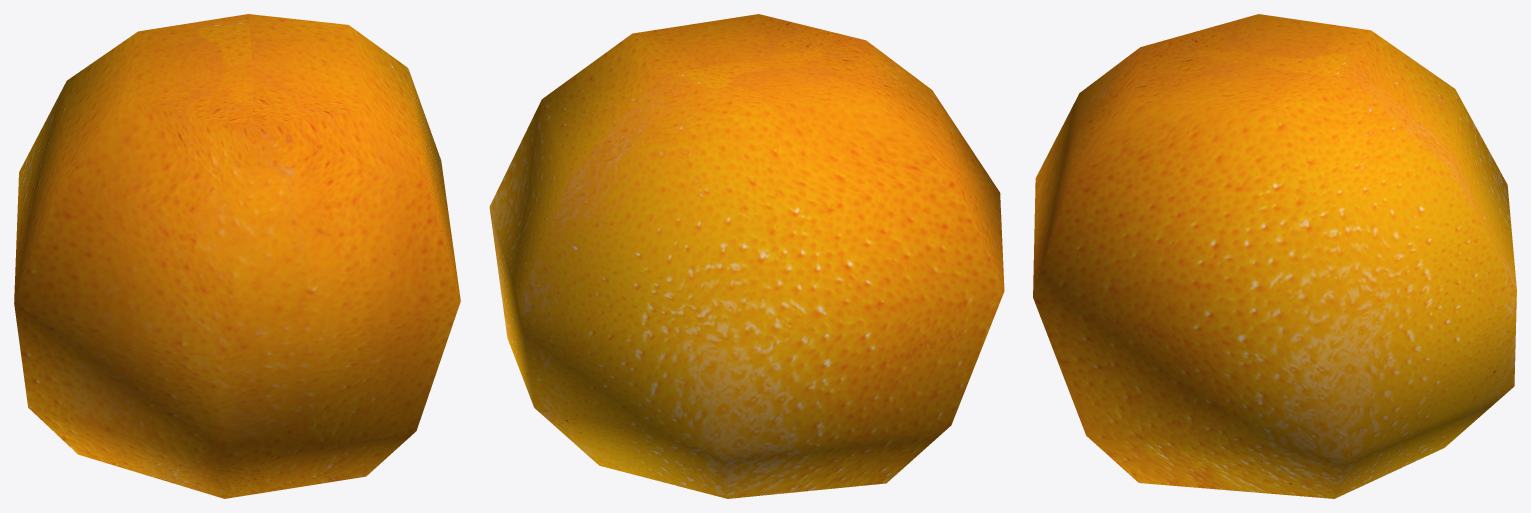
Rendered from orange_low_poly.FBX.
The picture shows the model from 3 angles, left to right: view 1: azimuth 30°, elevation 25°; view 2: azimuth 150°, elevation 25°; view 3: azimuth 270°, elevation 25°; orthographic projection.
Parts seen in each view (by area): view 1: Orange02; view 2: Orange02; view 3: Orange02.
Part boxes in pixels (x1,y1,x2,y2): Orange02: (14, 14, 460, 498); Orange02: (489, 14, 1004, 498); Orange02: (1033, 14, 1516, 498).
Bounding box in the file's own units: 3.7 × 3.02 × 3.26.
